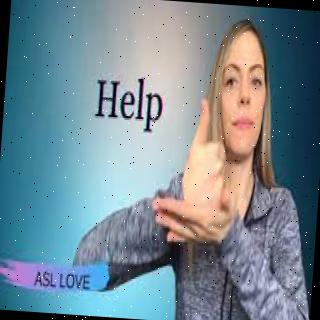Help: (145, 90, 269, 264)
